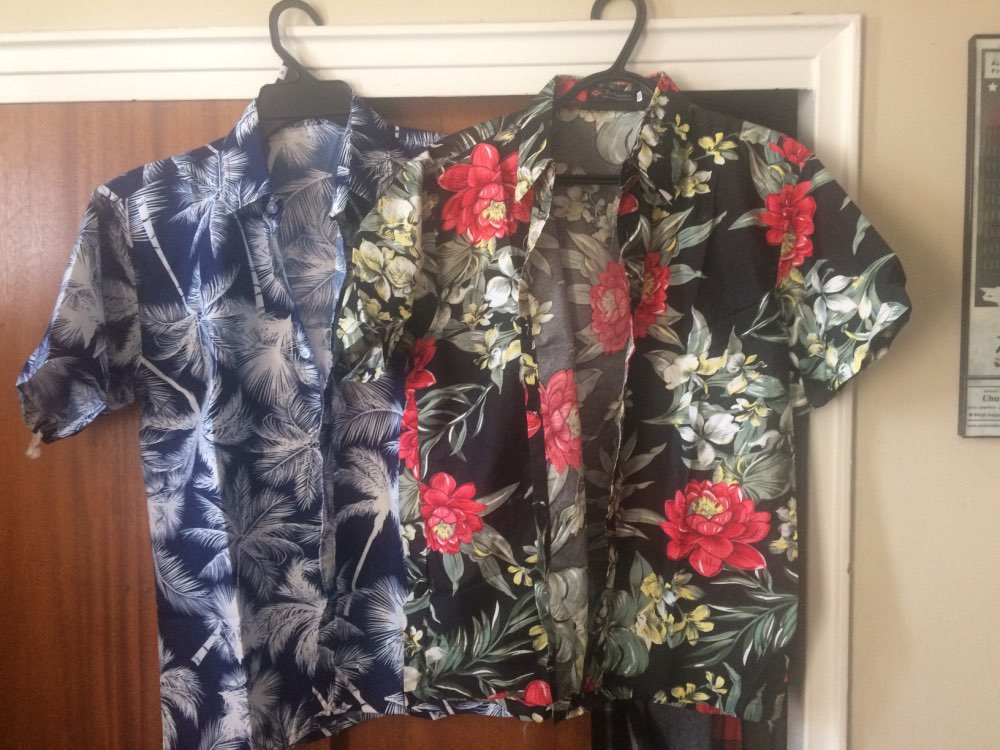shirts: (355, 74, 914, 750), (46, 99, 497, 750)
